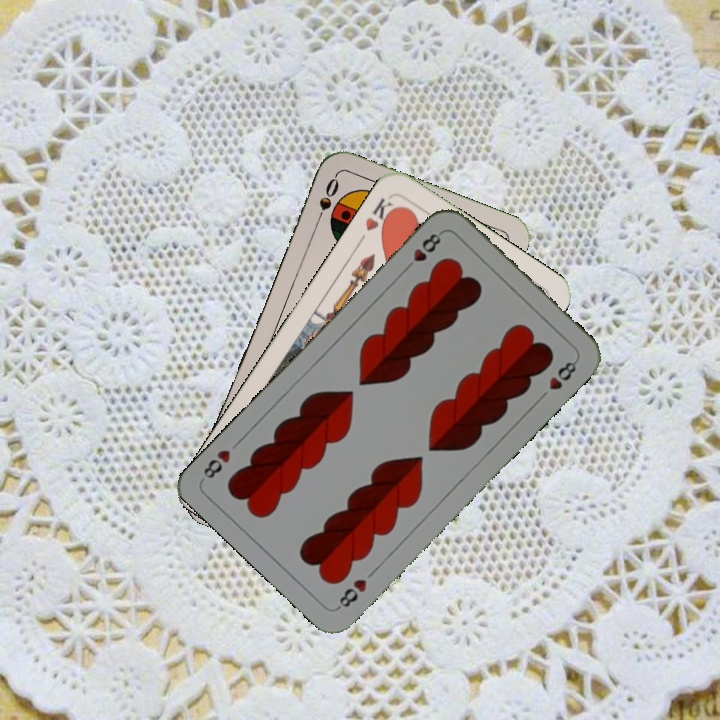H8: (400, 227, 445, 274), (333, 575, 370, 612)
HK: (361, 193, 401, 235)
SO: (311, 173, 342, 229)
